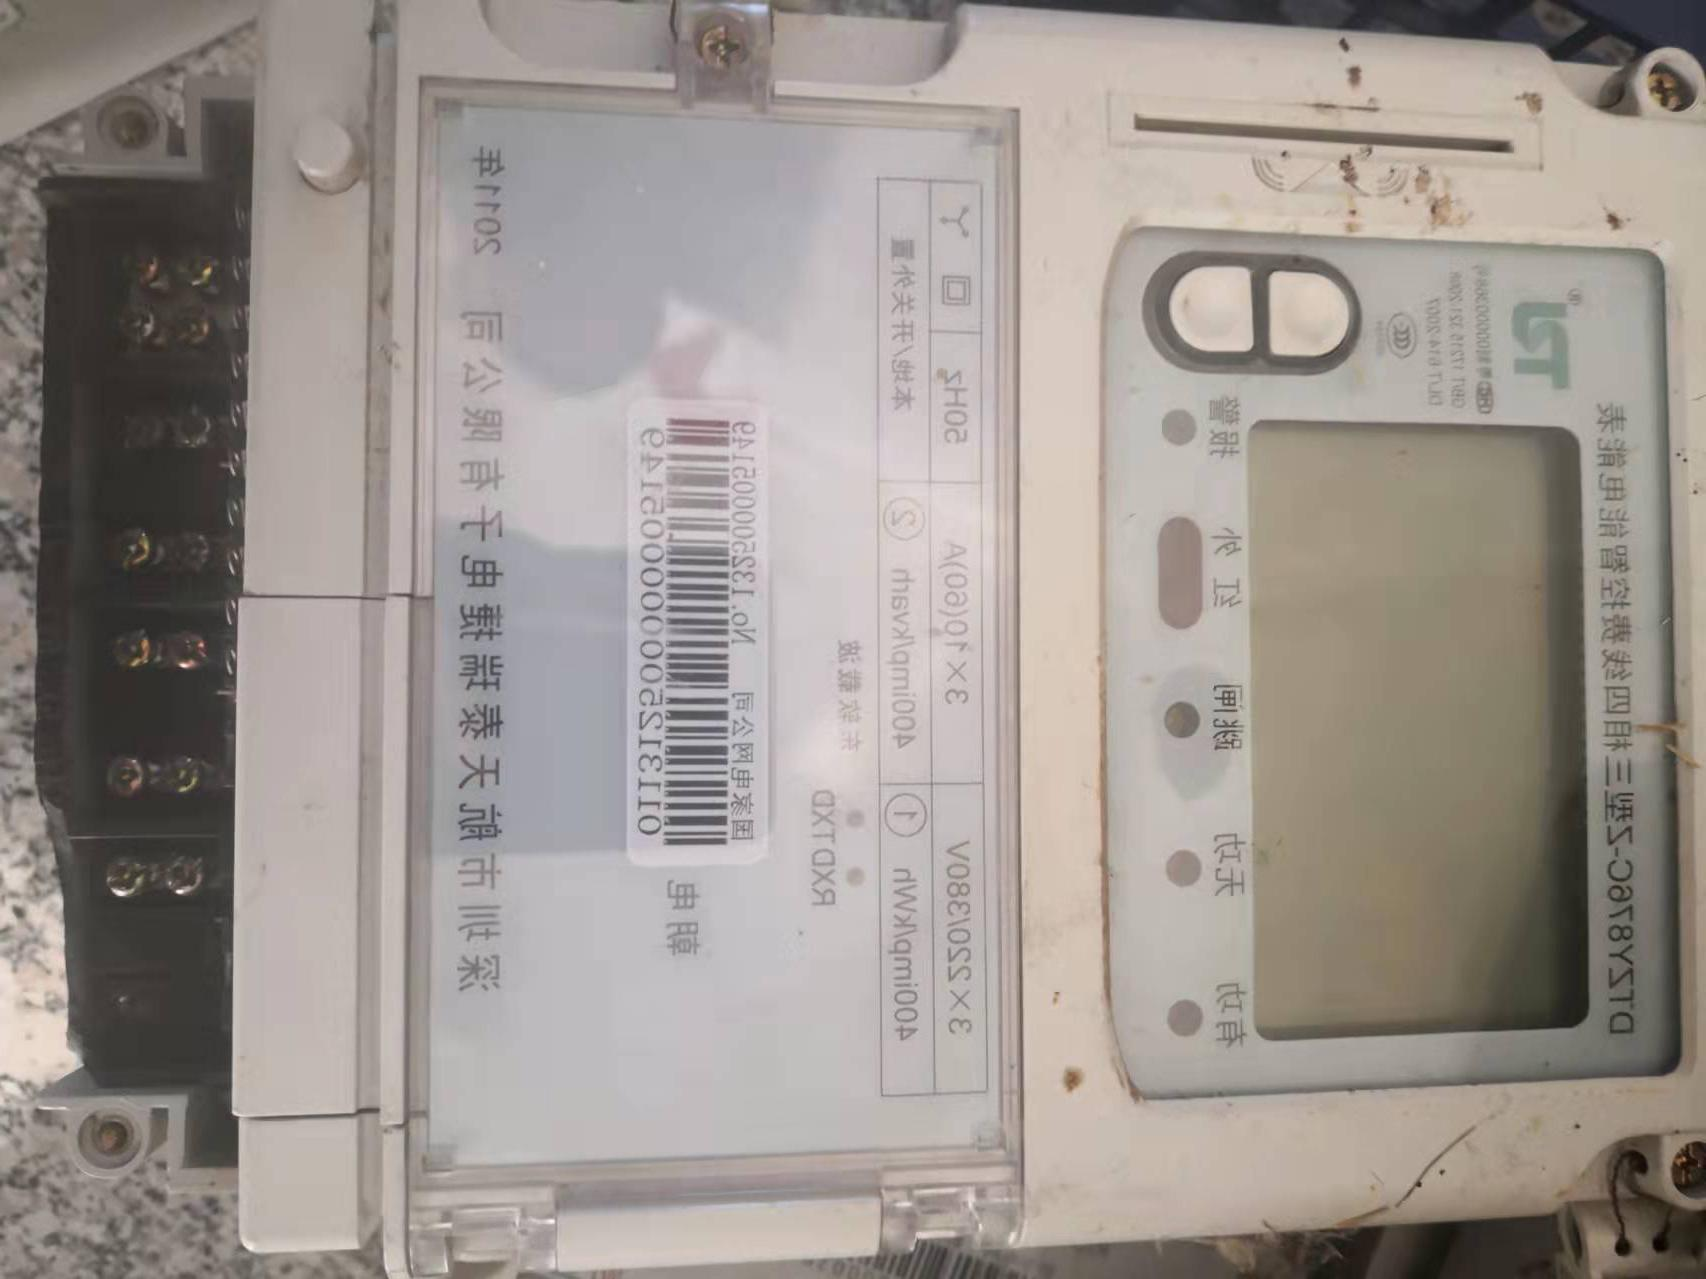digital: (388, 1, 1706, 1272)
